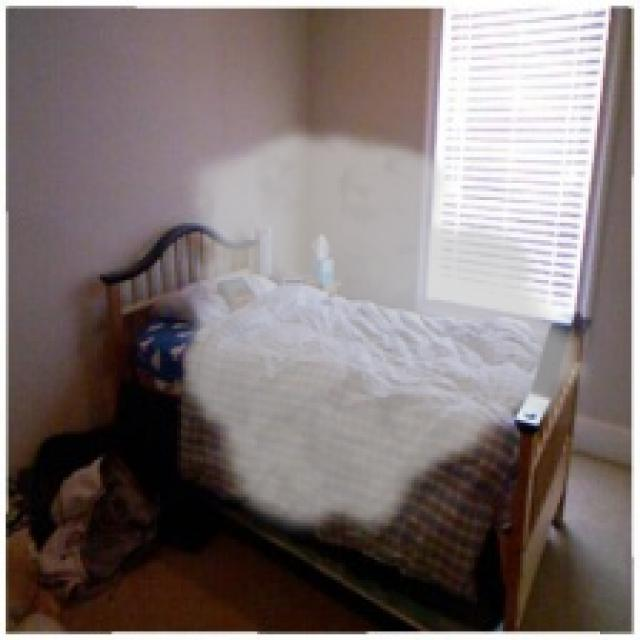smoke: (174, 123, 597, 546)
